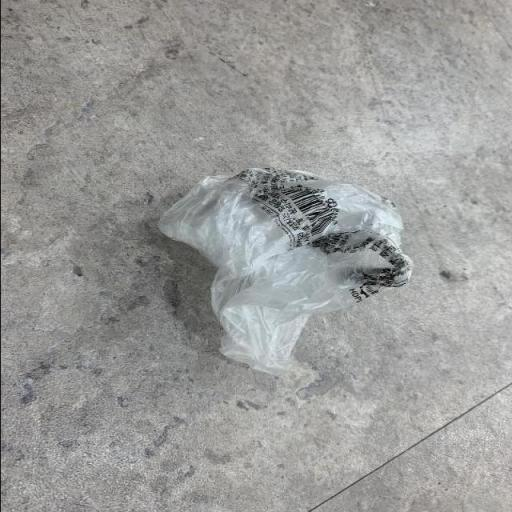plastic-bag: (147, 164, 417, 379)
